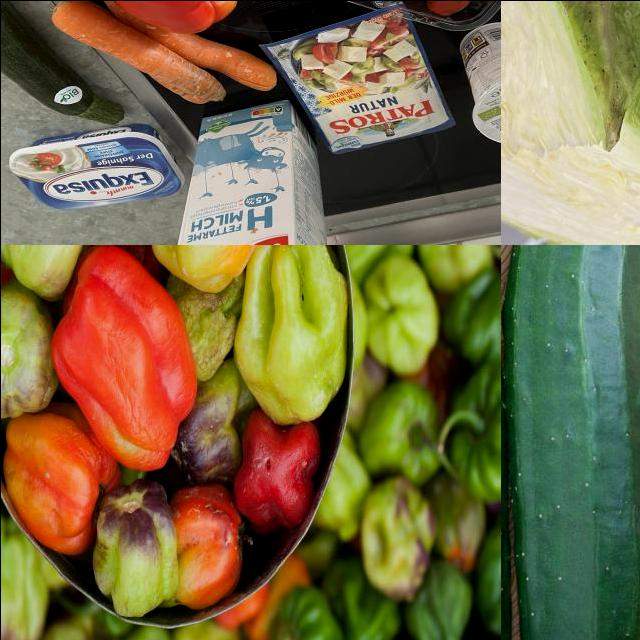bell_pepper: (53, 255, 205, 483), (241, 245, 349, 428), (1, 407, 99, 567), (82, 487, 179, 615), (233, 420, 327, 546), (152, 486, 246, 610), (363, 261, 441, 375), (439, 370, 501, 506), (144, 245, 289, 301), (1, 291, 56, 430), (1, 245, 105, 304)
cabbage: (501, 1, 640, 245)
carrot: (42, 1, 237, 114), (88, 1, 283, 99)
cucumber: (501, 245, 640, 640)
